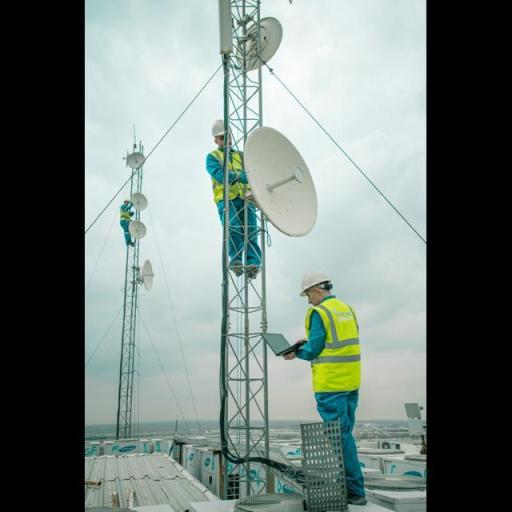Person: (289, 255, 390, 512), (200, 100, 275, 282), (110, 188, 142, 248)
boots: (320, 486, 368, 512), (230, 258, 262, 280)
helmet: (294, 264, 340, 298), (210, 113, 231, 137), (124, 196, 130, 202)
vest: (304, 292, 366, 396), (208, 150, 254, 204), (119, 205, 134, 223)
